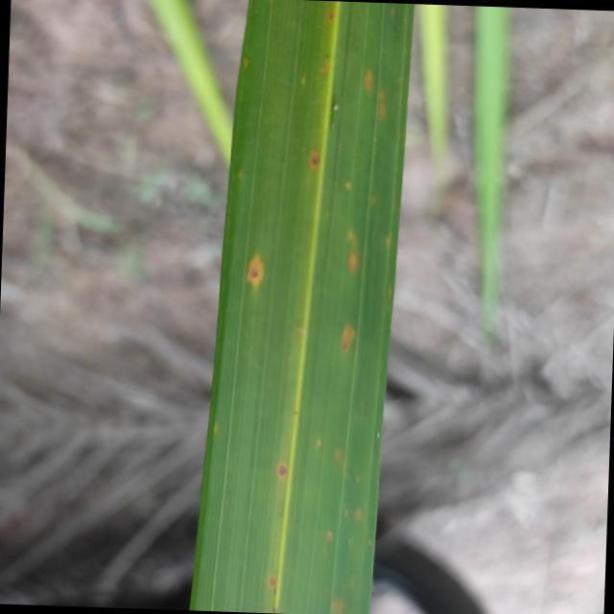Kalium: (190, 1, 414, 614)
